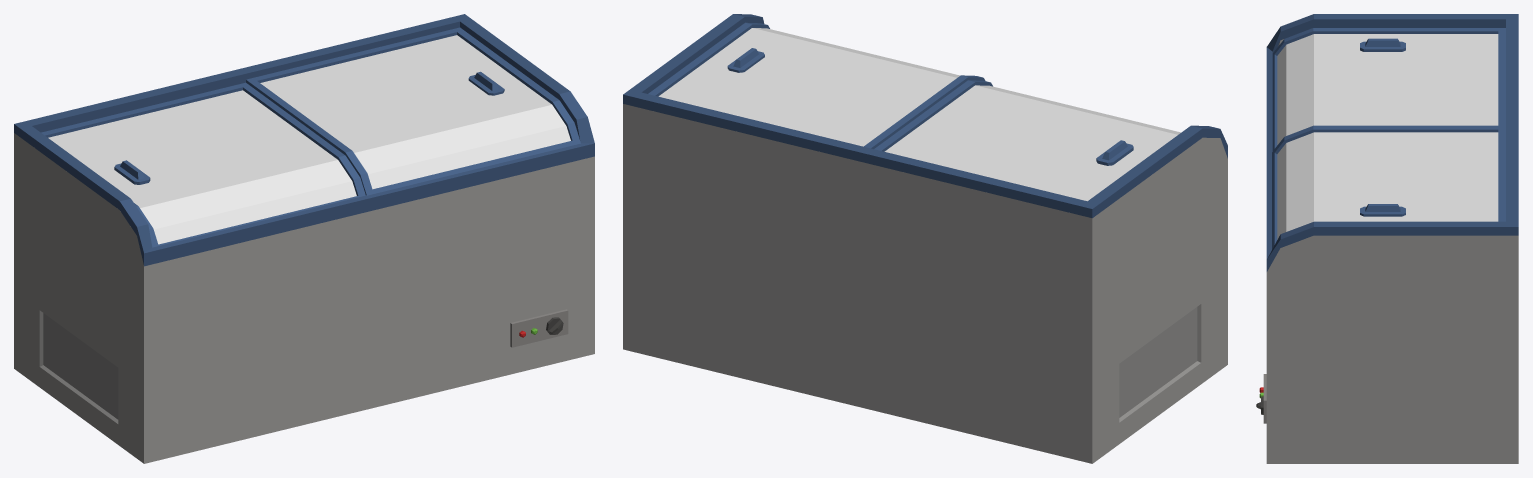
The model's file is SM_Props_Interior_SuperMarket_Freezer_Preset.fbx.
3 views of the same model, side by side, from view 1: azimuth 30°, elevation 25°; view 2: azimuth 150°, elevation 25°; view 3: azimuth 270°, elevation 25° (orthographic). The views are drawn at different scales.
Visible parts, largest first — view 1: SM_Props_Interior_SuperMarket_Freezer_Preset; view 2: SM_Props_Interior_SuperMarket_Freezer_Preset; view 3: SM_Props_Interior_SuperMarket_Freezer_Preset.
Part boxes in pixels (left/top/right/bottom): SM_Props_Interior_SuperMarket_Freezer_Preset: left=14, top=14, right=594, bottom=463; SM_Props_Interior_SuperMarket_Freezer_Preset: left=623, top=14, right=1227, bottom=463; SM_Props_Interior_SuperMarket_Freezer_Preset: left=1256, top=14, right=1518, bottom=463.
Bounding box in the file's own units: 160 × 83 × 83.3.
